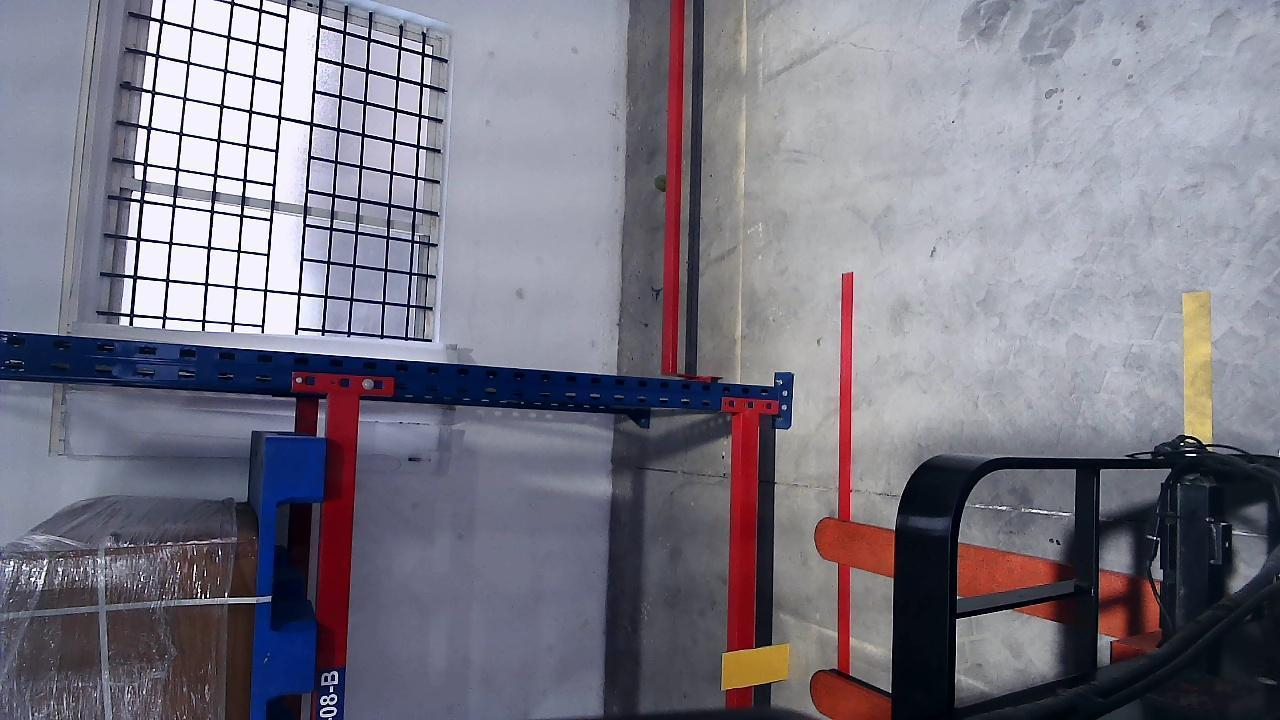red_line: (837, 271, 855, 678)
yellow_line: (1182, 292, 1214, 443)
